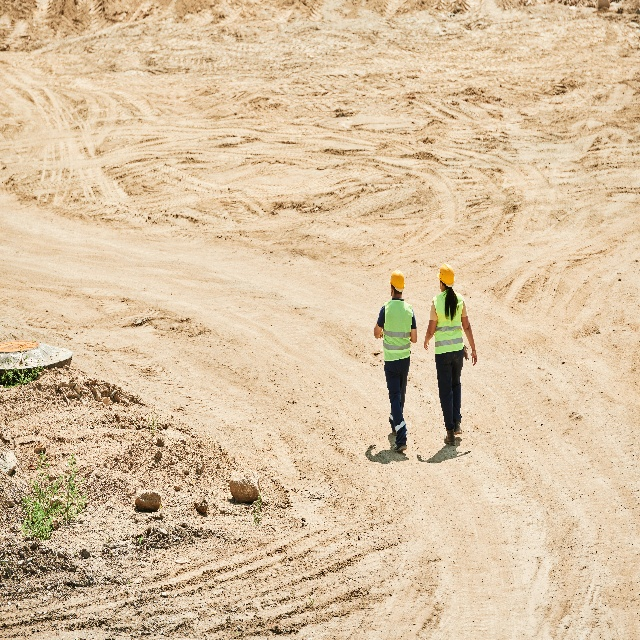Guantes: (463, 343, 469, 361)
Sin_guantes: (471, 348, 477, 365), (423, 338, 430, 350), (379, 332, 384, 341)
